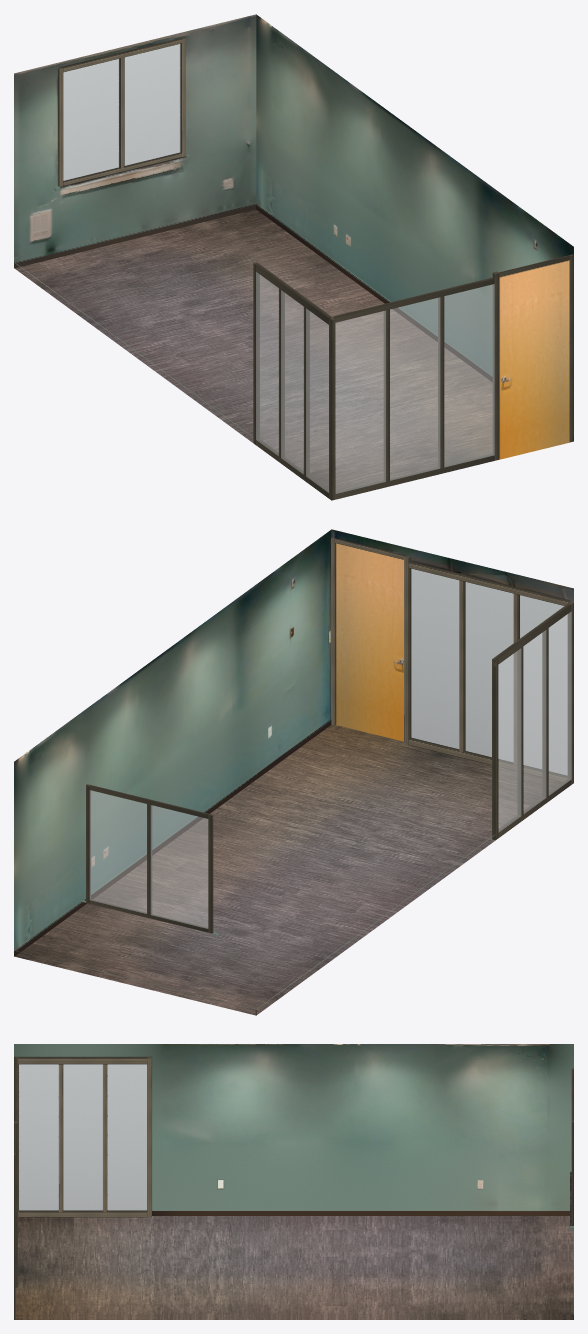
The model's file is empty-room.glb.
3 renders of one model, top to bottom at view 1: azimuth 30°, elevation 25°; view 2: azimuth 150°, elevation 25°; view 3: azimuth 270°, elevation 25°, orthographic. The views are drawn at different scales.
Visible parts, largest first — view 1: floor, wall-east, wall-north, wall-south, wall-west; view 2: floor, wall-east, wall-south, wall-north, wall-west; view 3: wall-west, floor, wall-south, wall-north.
Part boxes in pixels (x1,y1,x2,y2): floor: (14, 209, 492, 491); wall-east: (256, 14, 573, 441); wall-north: (14, 14, 256, 268); wall-south: (333, 254, 573, 499); wall-west: (15, 262, 335, 500); floor: (15, 725, 561, 1015); wall-east: (14, 529, 331, 956); wall-south: (330, 529, 573, 782); wall-north: (14, 784, 256, 1015); wall-west: (255, 602, 573, 1015); wall-west: (14, 1044, 573, 1217); floor: (15, 1216, 573, 1319); wall-south: (14, 1057, 17, 1319); wall-north: (570, 1068, 573, 1319).
Bounding box in the file's own units: 3.17 × 2.43 × 7.19.
Materials: 9 (8 with a texture image).
